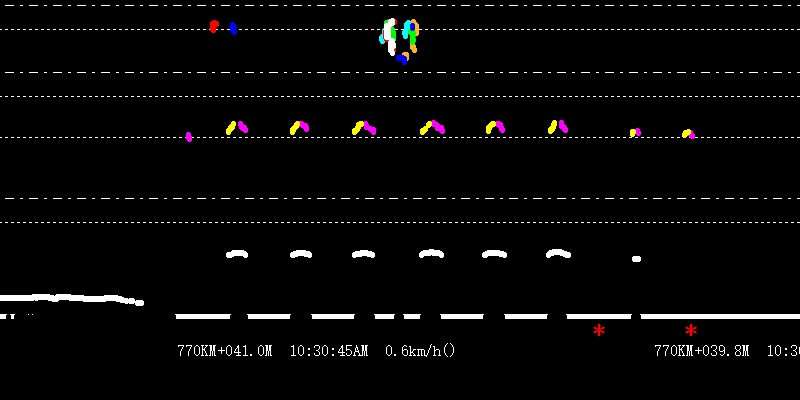J: (377, 2, 416, 64)
face_1: (205, 18, 220, 34), (229, 17, 237, 39)
star: (591, 321, 606, 339), (682, 324, 698, 340)
y_p: (214, 112, 576, 272)
